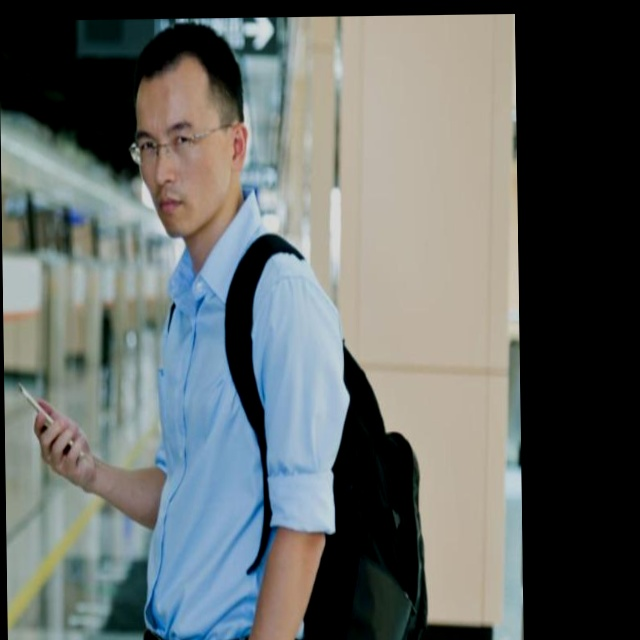Sin_Casco_Mascarrilla: (126, 24, 251, 234)
Sin_Chaleco: (137, 228, 341, 640)
